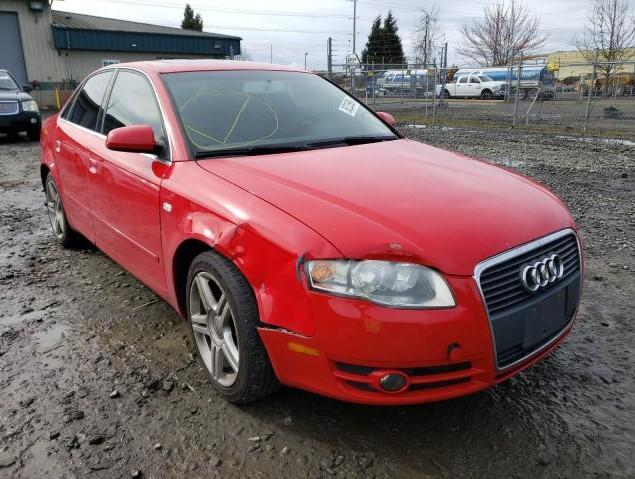Back-door: (52, 66, 117, 245)
Back-wheel: (45, 172, 92, 249)
Back-window: (62, 71, 113, 130)
Fender: (161, 161, 344, 339)
Front-bumper: (257, 276, 575, 406)
Front-door: (86, 67, 173, 303)
Front-wheel: (185, 248, 284, 404)
Front-window: (103, 71, 163, 138)
Grille: (473, 228, 583, 371)
Headlight: (302, 258, 456, 311)
Hood: (196, 139, 574, 277)
Mirror: (106, 124, 169, 161), (377, 112, 396, 124)
Quarter-panel: (40, 114, 61, 198)
Roof: (135, 60, 309, 73)
Windshield: (159, 70, 405, 160)
